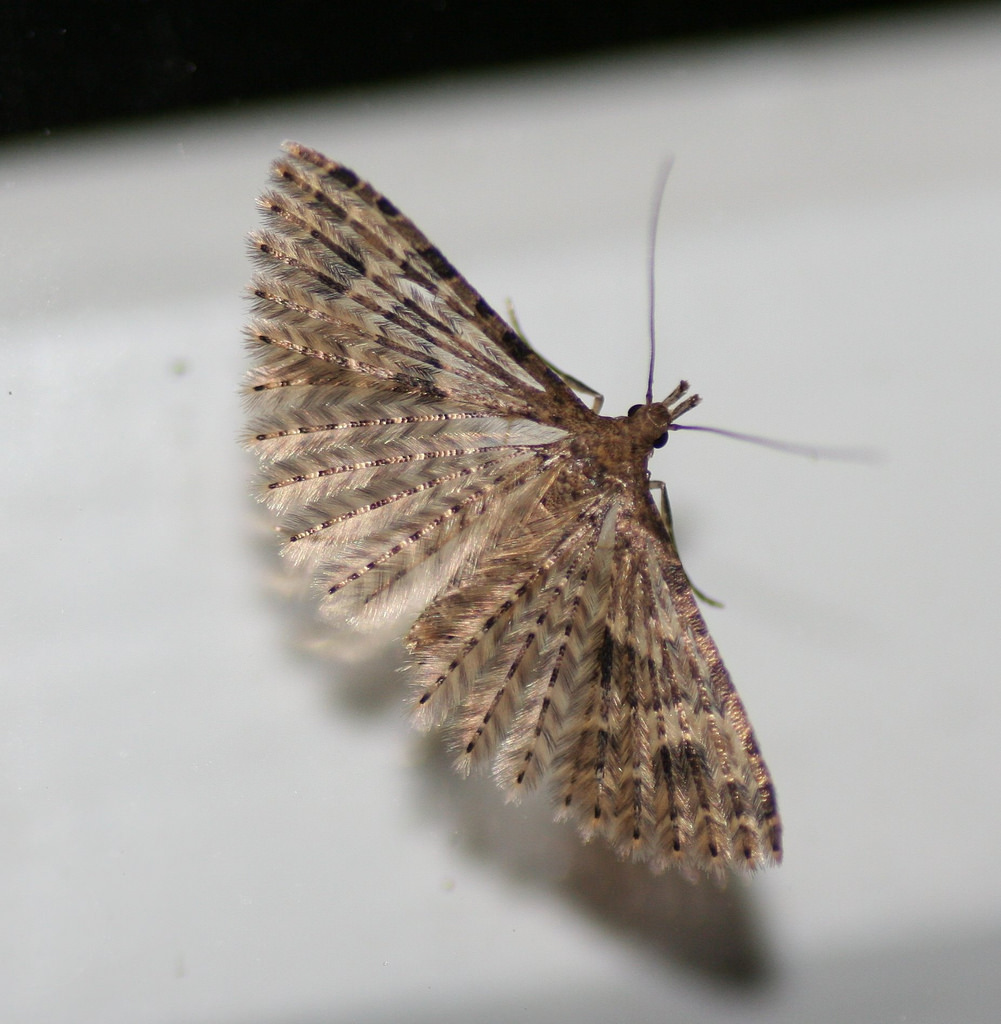Alucitidae: (228, 102, 887, 890)
moth: (230, 104, 889, 892)
